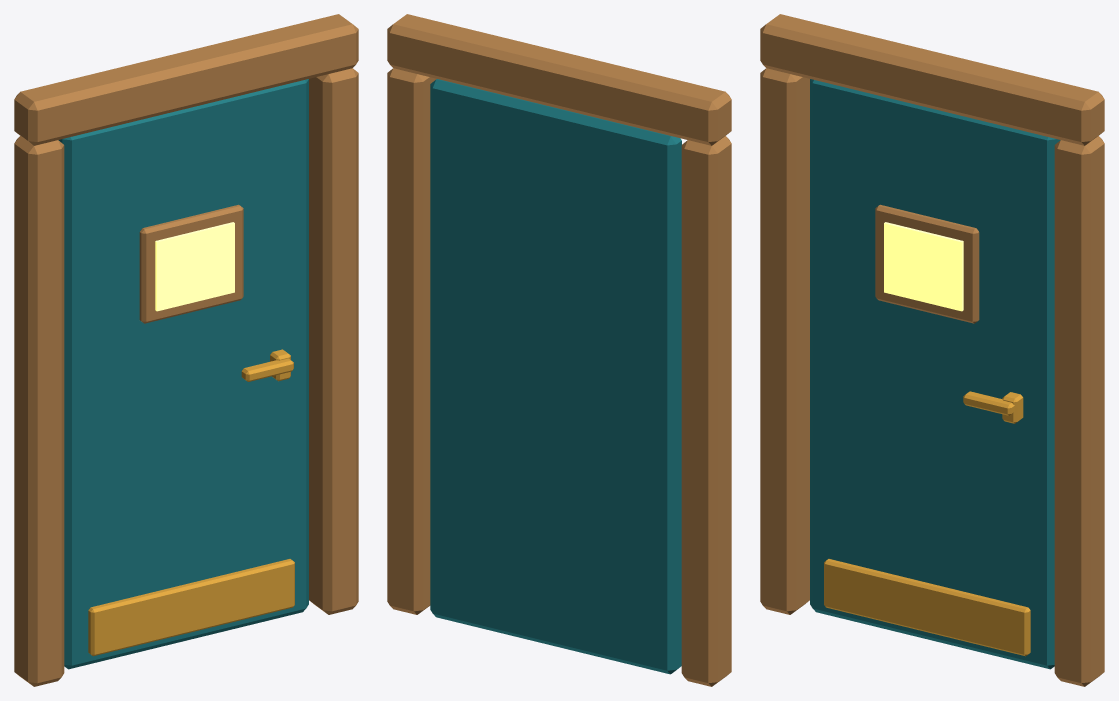
File: exit_door.glb
3 renders of one model, left to right at view 1: azimuth 30°, elevation 25°; view 2: azimuth 150°, elevation 25°; view 3: azimuth 330°, elevation 25°, orthographic.
Visible parts, largest first — view 1: part_door_leaf, exit_door; view 2: part_door_leaf, exit_door; view 3: part_door_leaf, exit_door.
Boxes of the visible parts, x1,y1,x2,y2 form: part_door_leaf: [58, 79, 308, 669]; exit_door: [14, 14, 358, 686]; part_door_leaf: [430, 79, 681, 674]; exit_door: [387, 14, 731, 686]; part_door_leaf: [810, 79, 1060, 669]; exit_door: [760, 14, 1104, 686].
Bounding box in the file's own units: 1.1 × 1.86 × 0.15.
